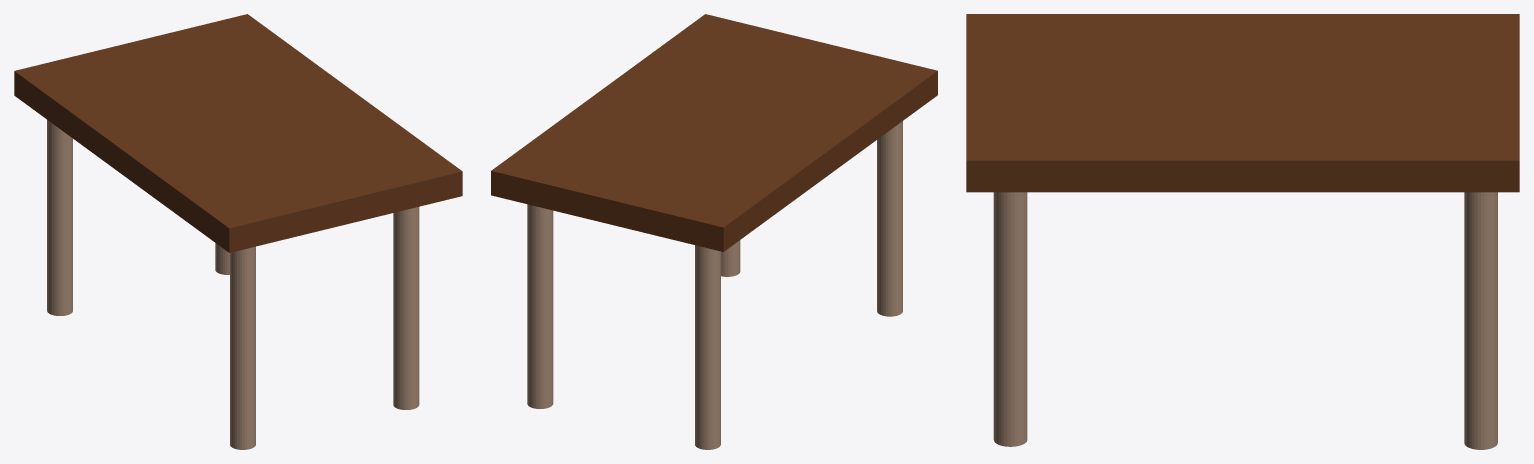
The model's file is Asset_Table.fbx.
The picture shows the model from 3 angles, left to right: view 1: azimuth 30°, elevation 25°; view 2: azimuth 150°, elevation 25°; view 3: azimuth 270°, elevation 25°; orthographic projection. The views are drawn at different scales.
Parts seen in each view (by area): view 1: Cylinder.001; view 2: Cylinder.001; view 3: Cylinder.001.
Boxes of the visible parts, x1=… form: Cylinder.001: x1=14, y1=14, x2=462, y2=449; Cylinder.001: x1=491, y1=14, x2=937, y2=449; Cylinder.001: x1=966, y1=14, x2=1519, y2=449.
Bounding box in the file's own units: 200 × 193 × 319.
